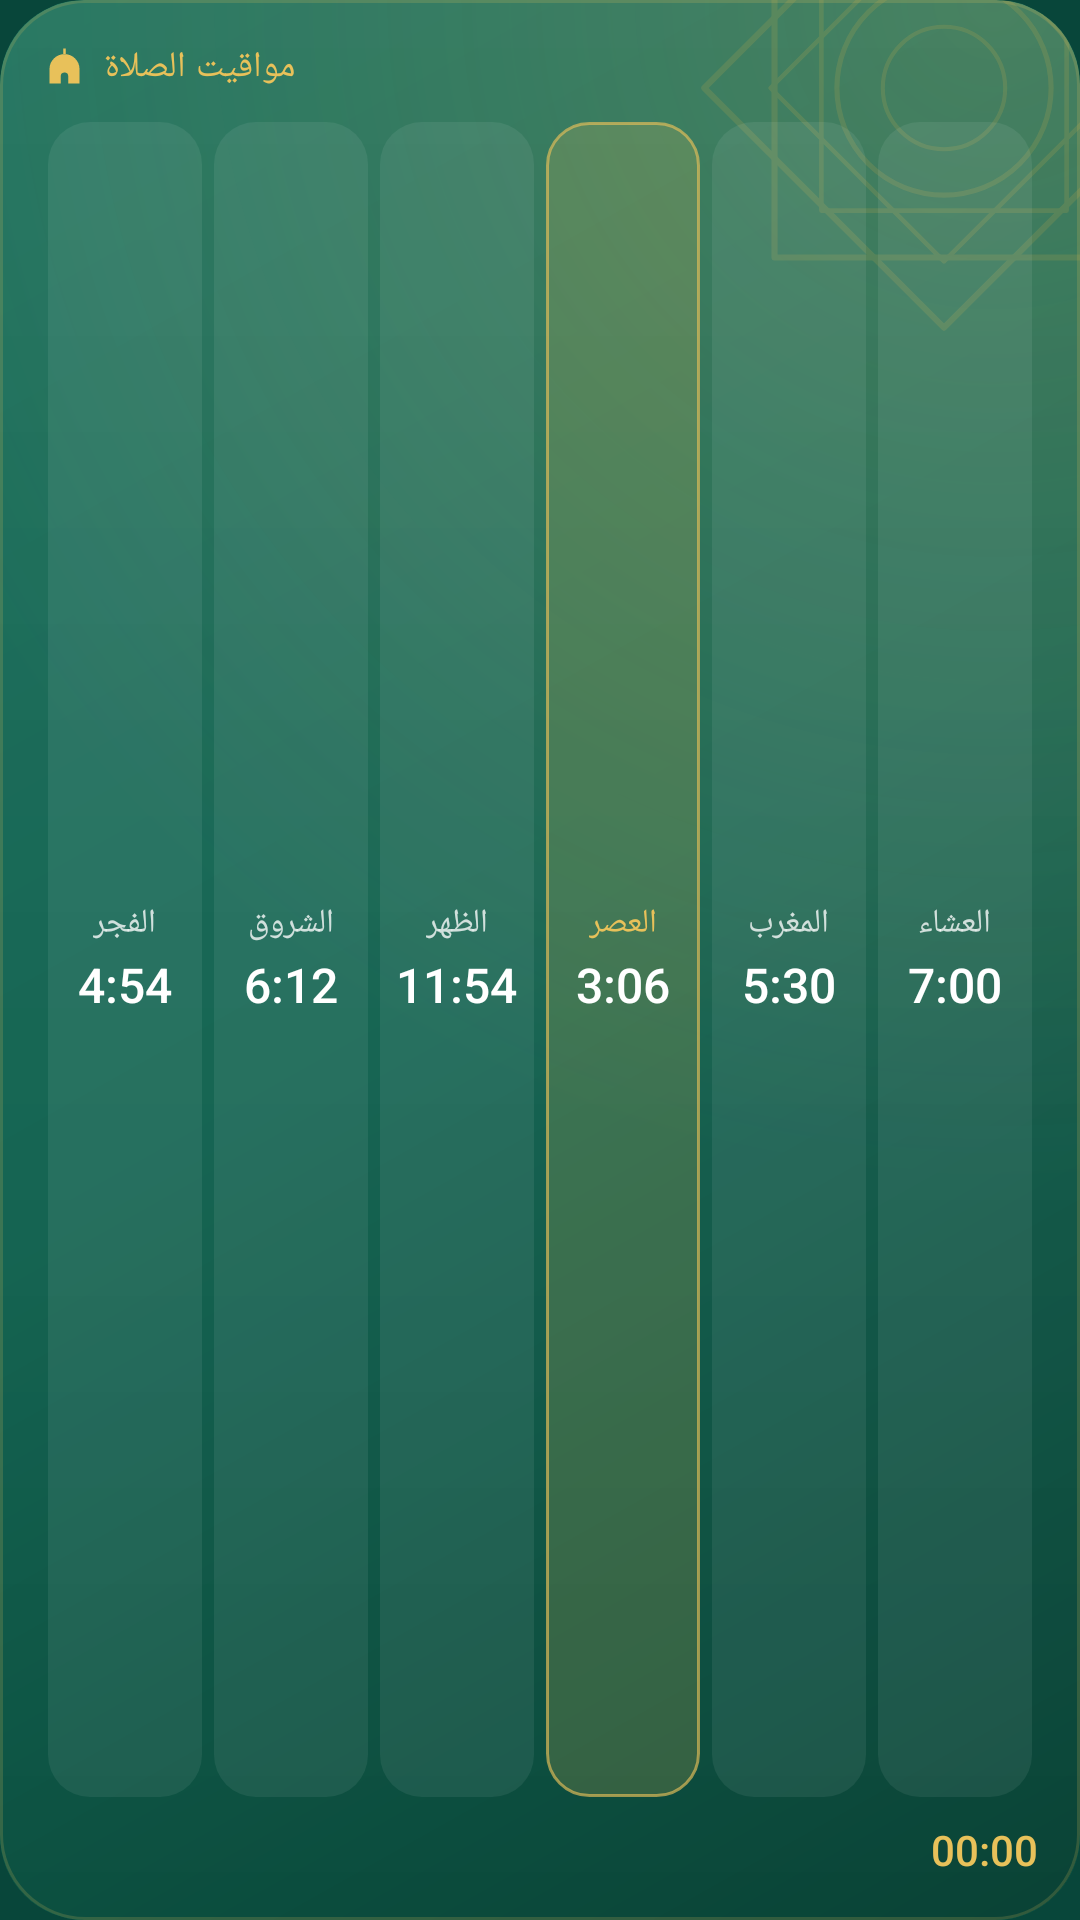

Screen size 1080*1920. Icon name, then its box in pixels as (x1, y1, x2, y2):
mosque: (49, 48, 80, 84)
